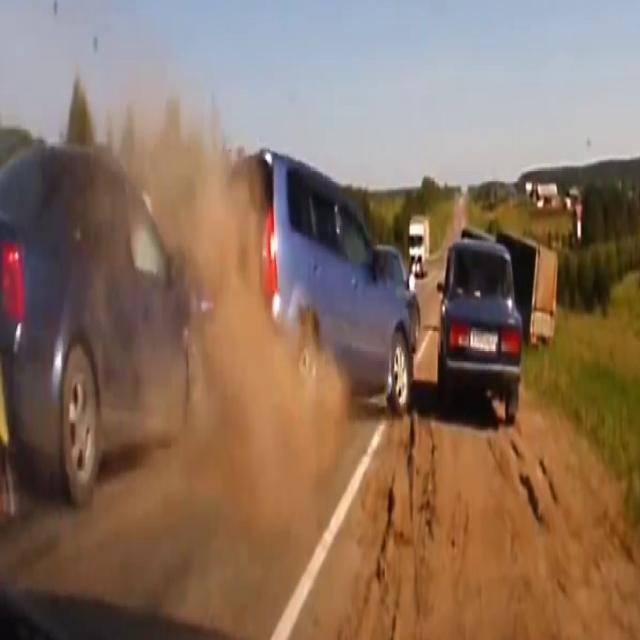accident: (67, 80, 351, 507)
